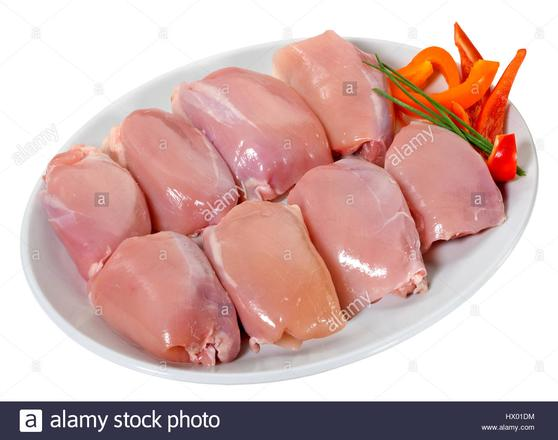white_bread: (281, 156, 441, 324), (81, 228, 251, 367), (203, 198, 351, 346), (368, 122, 523, 258), (175, 64, 336, 189), (106, 106, 245, 230), (277, 33, 403, 164), (39, 140, 154, 261)
